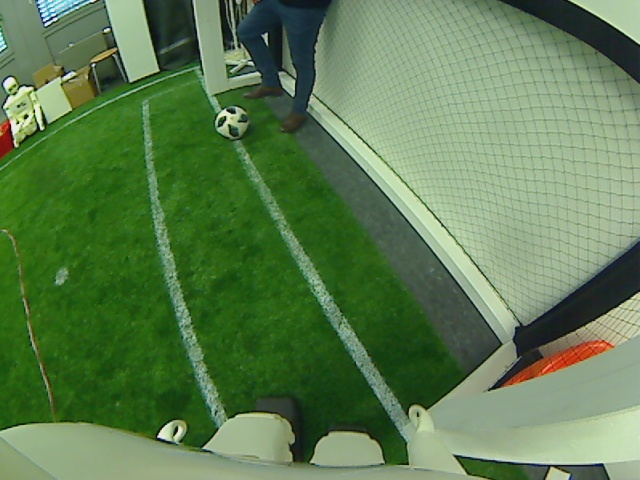ball: (213, 103, 252, 139)
